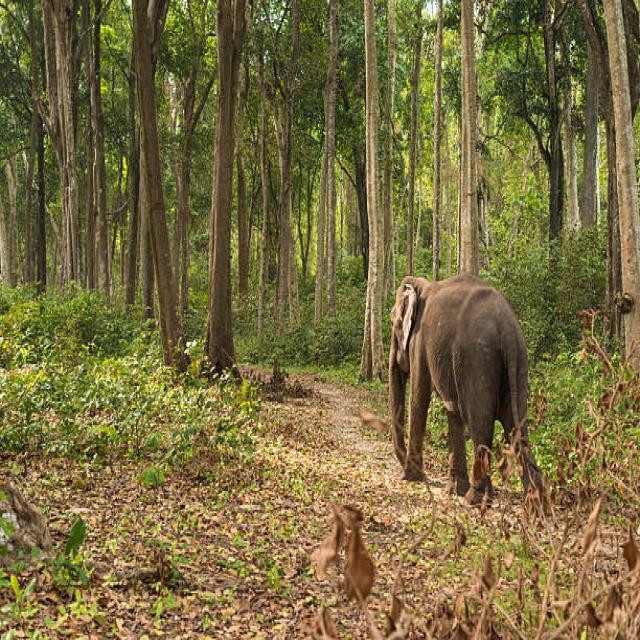Elephant: (380, 266, 542, 508)
